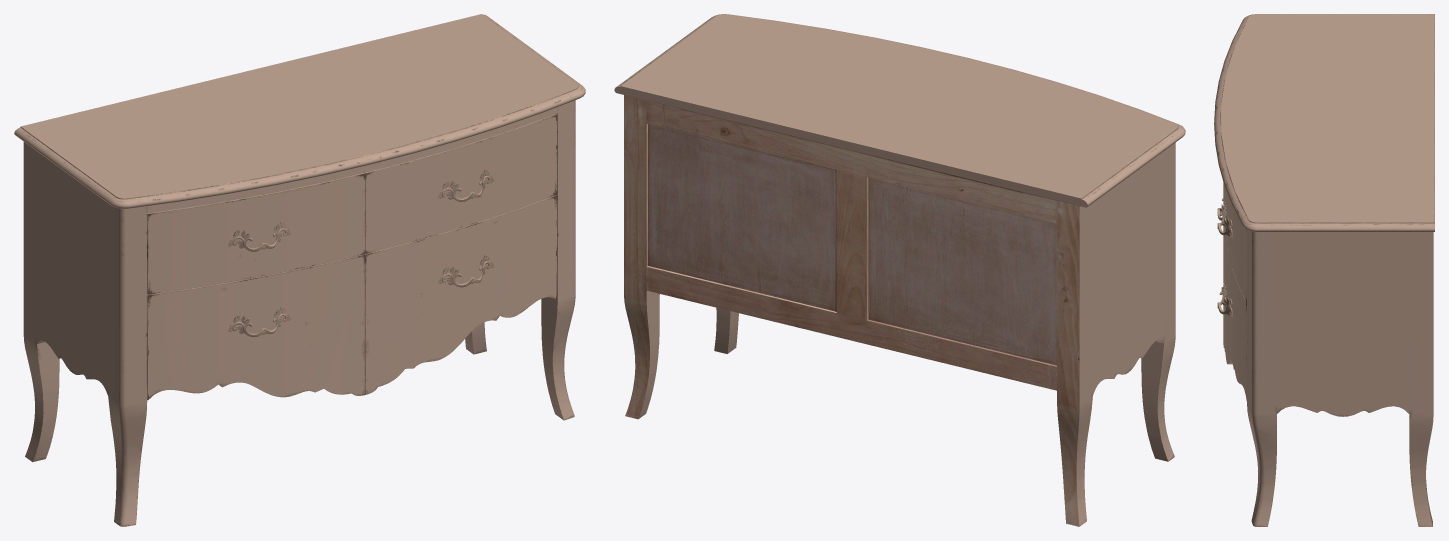
File: example116.gltf
3 renders of one model, left to right at view 1: azimuth 30°, elevation 25°; view 2: azimuth 150°, elevation 25°; view 3: azimuth 270°, elevation 25°, orthographic. The views are drawn at different scales.
Size of the model in its own units: 125 by 83 by 54.28.
Materials: 3 (3 with a texture image).
